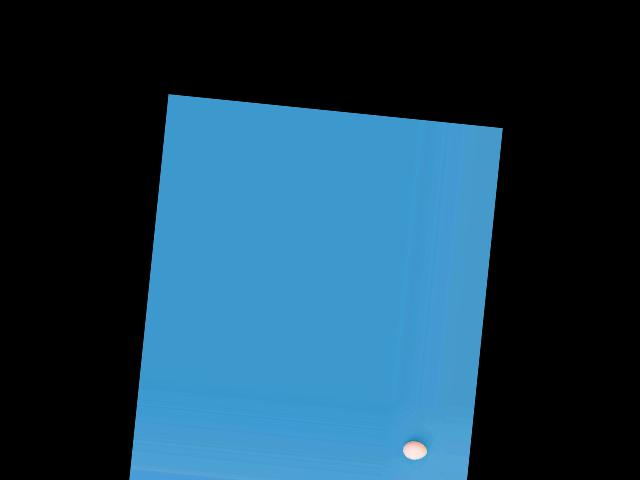egg: (401, 440, 428, 460)
